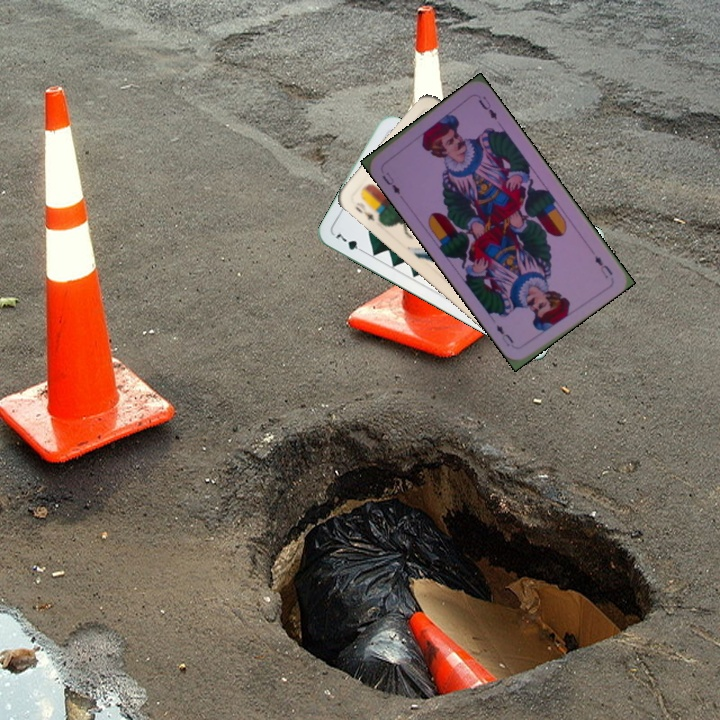EO: (351, 198, 383, 225)
EU: (378, 168, 405, 200), (590, 252, 615, 281)
G7: (332, 229, 368, 256)
